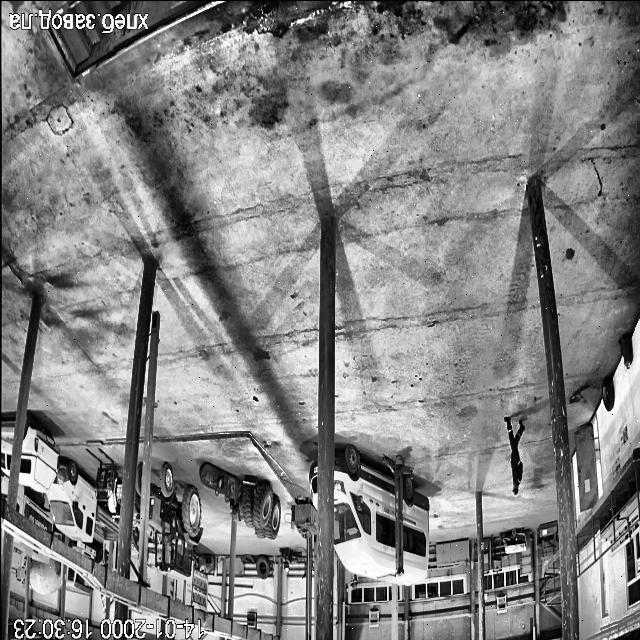car: (333, 444, 428, 585), (308, 462, 316, 508)
car lift: (383, 455, 412, 576)
fire extinguisher: (619, 334, 632, 368)
mechanic: (504, 418, 524, 493)
tractor: (148, 462, 202, 580), (136, 463, 142, 507), (136, 517, 140, 532), (138, 508, 140, 514)
truck: (47, 462, 118, 540), (20, 412, 59, 492), (16, 484, 52, 532), (14, 535, 48, 562), (0, 422, 14, 475), (66, 567, 92, 595), (76, 540, 104, 564), (0, 477, 8, 498)
